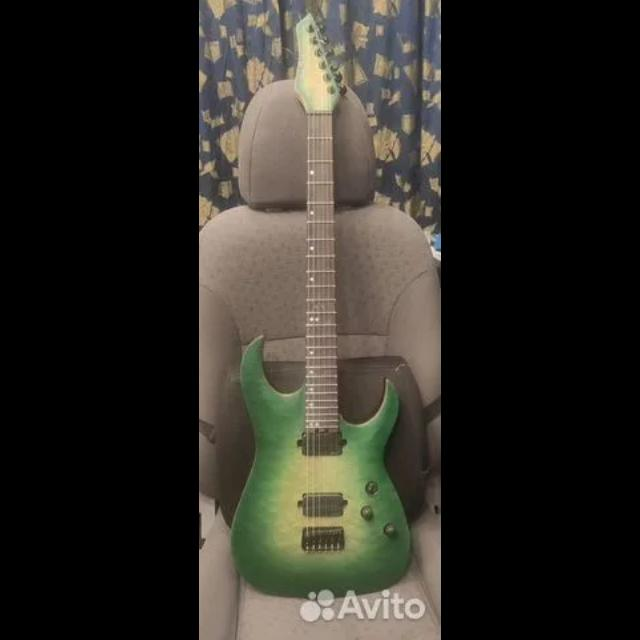Electric-Guitar: (231, 14, 411, 598)
